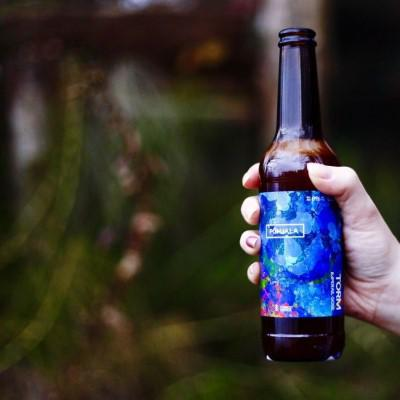beer: (259, 28, 346, 365)
